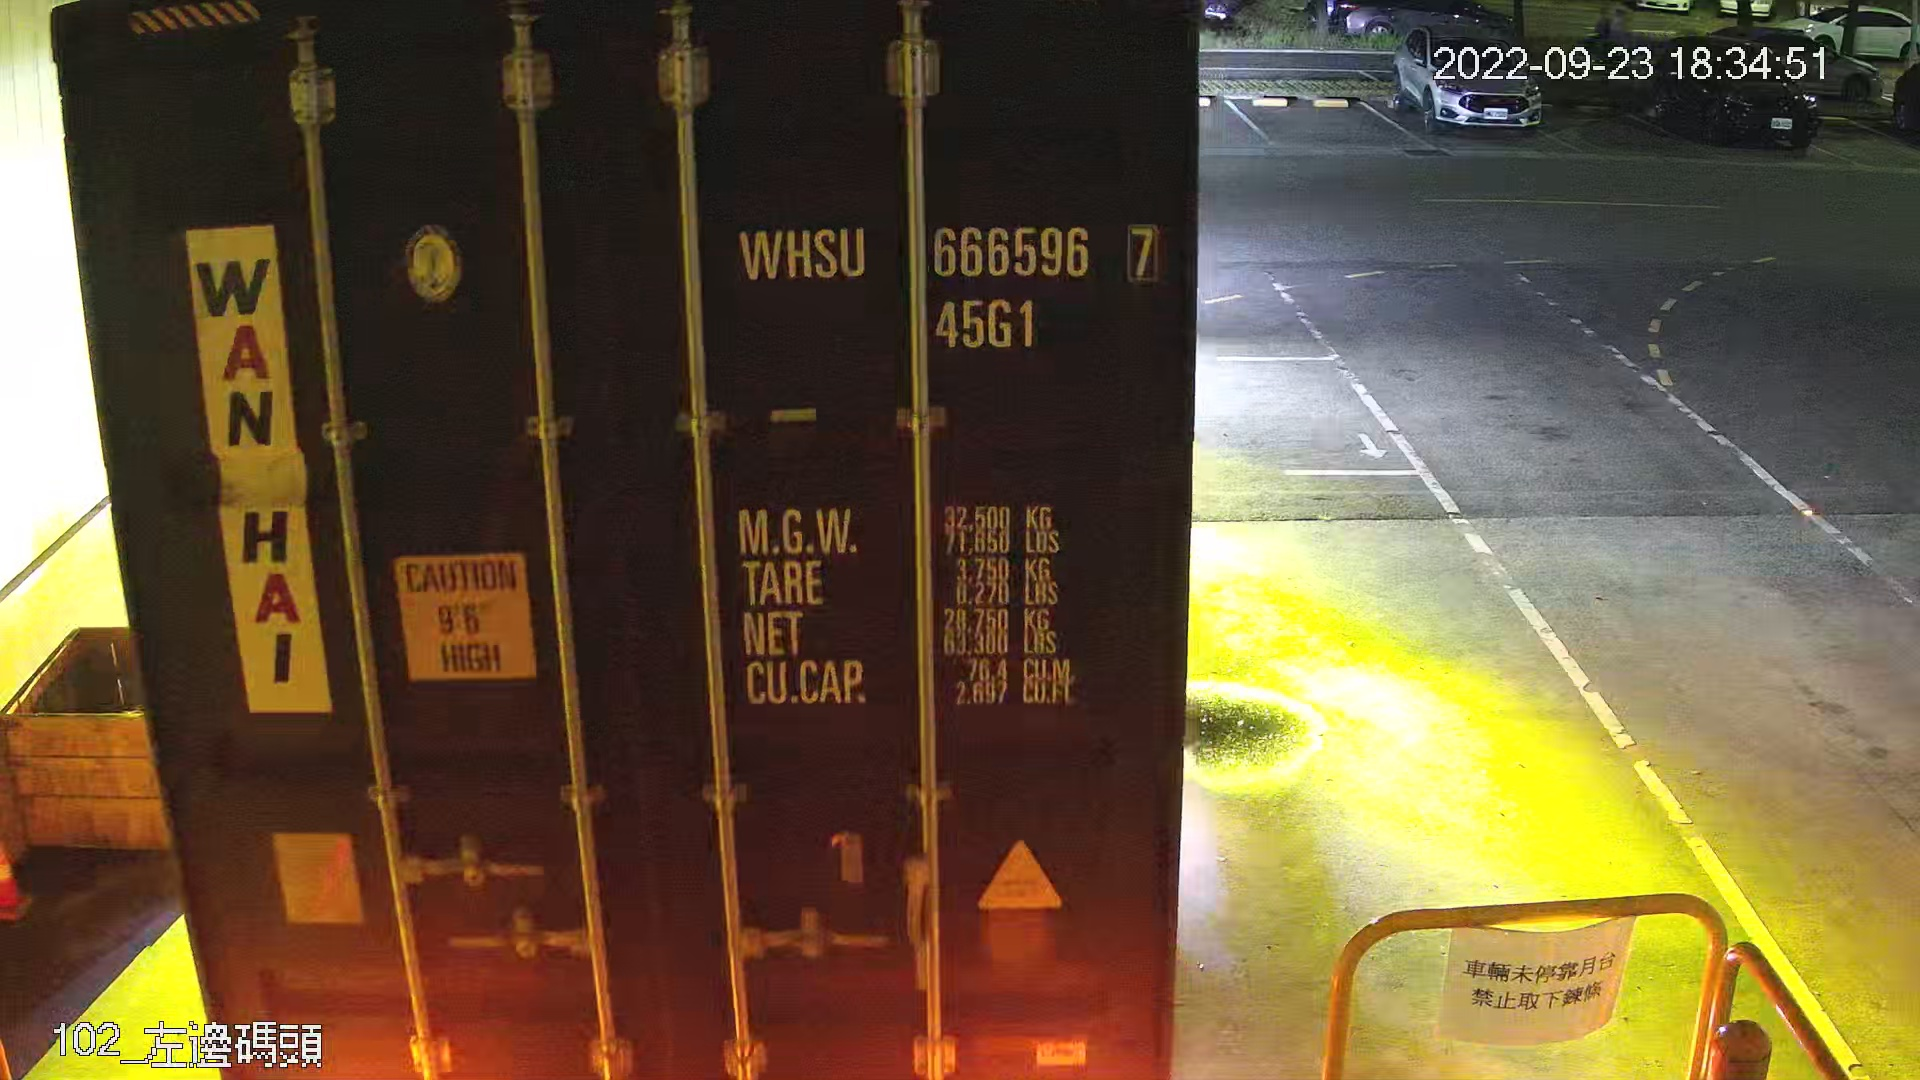container: (712, 202, 1172, 367)
